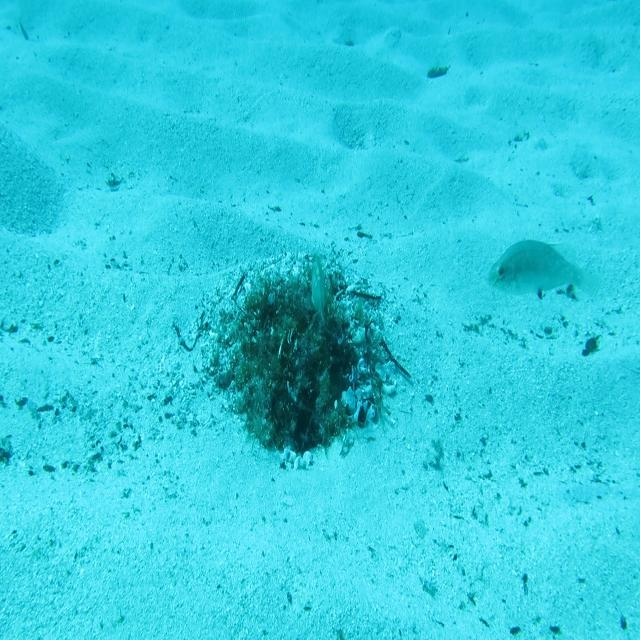NIP_CORE: (308, 249, 330, 331)
core_nest: (271, 298, 328, 347)
female: (482, 237, 602, 304)
nest: (198, 239, 405, 482)
vegetation: (426, 62, 452, 80)
